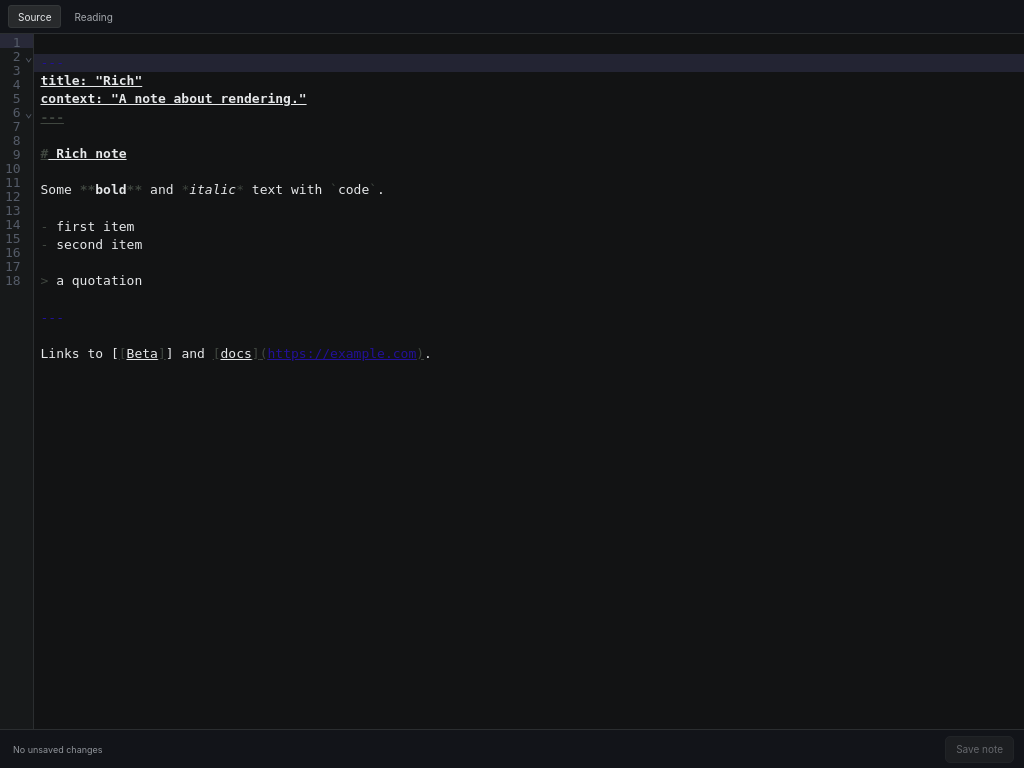
it: reading view › renders Markdown structure instead of source when Reading is selected
Click the button "Reading". click: x=94, y=16
box: [64,5,123,28]
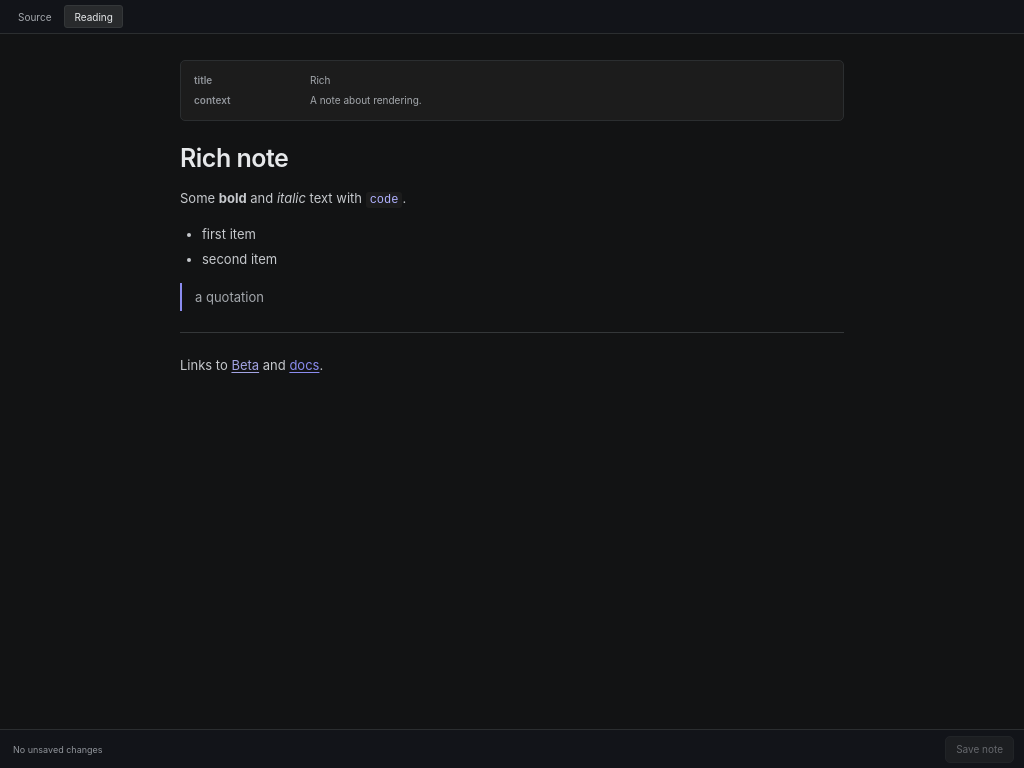
Expected: the heading "Rich note" is shown, [180,143,288,173]
Expected: the number of list items is 2, [202,226,256,242]; [202,251,277,267]
